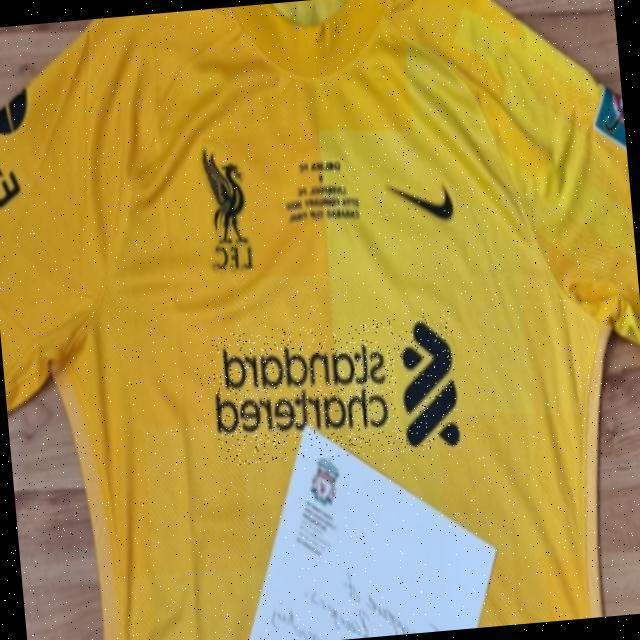Standard Chartered: (209, 314, 462, 468), (384, 178, 454, 222)
